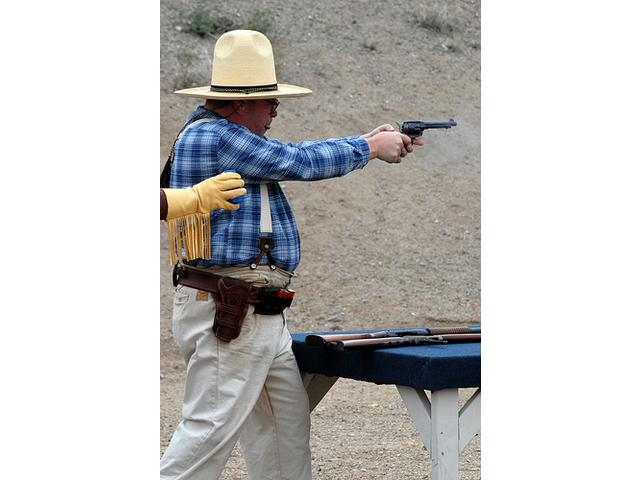pistol: (394, 118, 459, 171)
